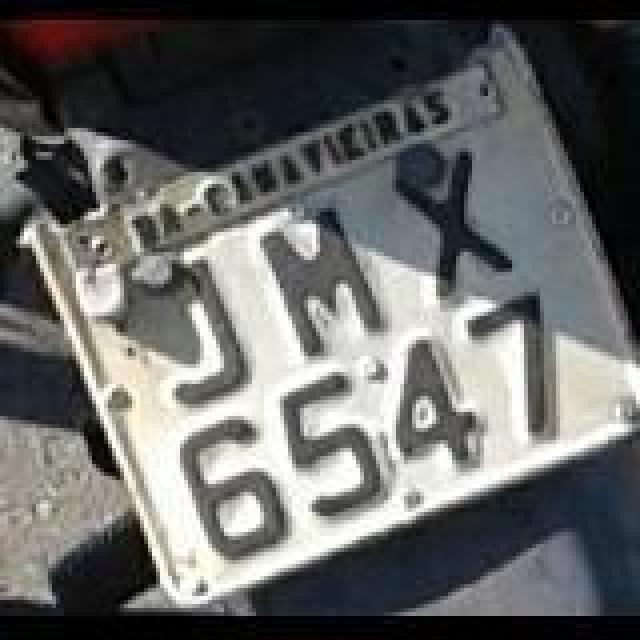4: (388, 328, 484, 472)
5: (280, 368, 392, 520)
6: (172, 412, 292, 564)
7: (462, 292, 562, 444)
J: (166, 250, 250, 406)
M: (260, 202, 388, 358)
X: (398, 142, 514, 306)
